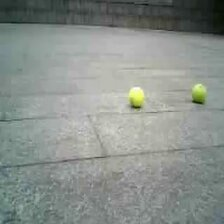tennis: (129, 86, 143, 107), (192, 83, 207, 102)
